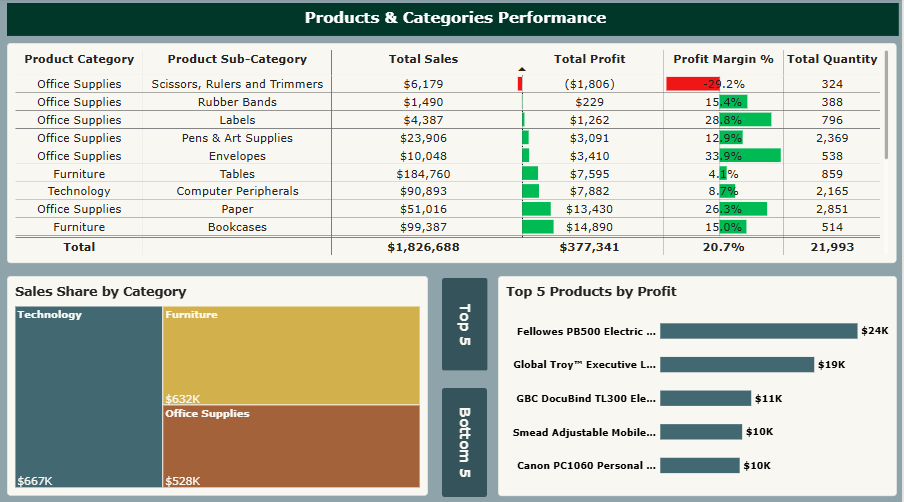

This screenshot's page, from the dashboard's own definition file:
{"tool":"powerbi","page":{"name":"Products","canvas":[1920,1080],"ordinal":2},"visuals":[{"type":"group","id":"g1","title":"Group 1","box":[14,9.7,1895.7,70.4],"z":0},{"type":"shape","box":[16.2,9.7,1896,70.3],"z":0,"group":"g1"},{"type":"textbox","box":[14,9.8,1896,70.3],"z":1000,"group":"g1"},{"type":"tableEx","fields":{"Values":["Orders.Product Category","Orders.Product Sub-Category","Measures..Total Sales","Measures..Total Profit","Measures..Profit Margin %","Measures..Total Quantity"]},"box":[17.1,100,1892.7,478],"z":1000},{"type":"treemap","title":"Sales Share by Category","fields":{"Group":["Orders.Product Category"],"Values":["Measures..Total Sales"]},"box":[17.1,595.1,895.1,468.3],"z":2000},{"type":"barChart","title":"Top 5 Products by Profit","fields":{"Category":["Orders.Product Name"],"Y":["Measures..Total Profit"]},"box":[1060.9,595.3,848.3,467.7],"z":3000},{"type":"actionButton","title":"Top 5","box":[941.8,595.3,97.4,197.4],"z":5000},{"type":"actionButton","title":"Bottom 5","box":[941.8,829.1,95.7,231.7],"z":6000}]}

Visuals, with their boxes in screenshot pixels (x1, y1, x2, y2), scaled from the page's 1920x1080 canvas onto the 904x502 screenshot:
"Group 1" group: x1=7, y1=5, x2=899, y2=37
shape: x1=8, y1=5, x2=900, y2=37
textbox: x1=7, y1=5, x2=899, y2=37
tableEx - Orders.Product Category x Orders.Product Sub-Category: x1=8, y1=46, x2=899, y2=269
"Sales Share by Category" treemap: x1=8, y1=277, x2=429, y2=494
"Top 5 Products by Profit" barChart: x1=500, y1=277, x2=899, y2=494
"Top 5" actionButton: x1=443, y1=277, x2=489, y2=368
"Bottom 5" actionButton: x1=443, y1=385, x2=488, y2=493
